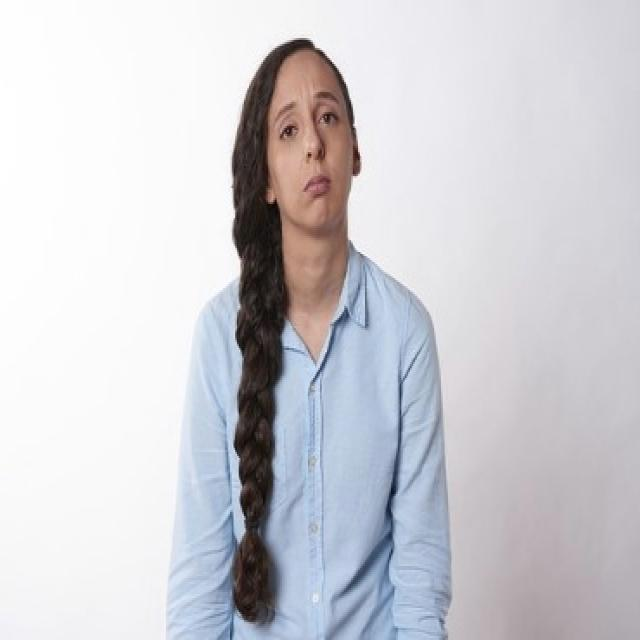adult: (163, 23, 454, 640)
